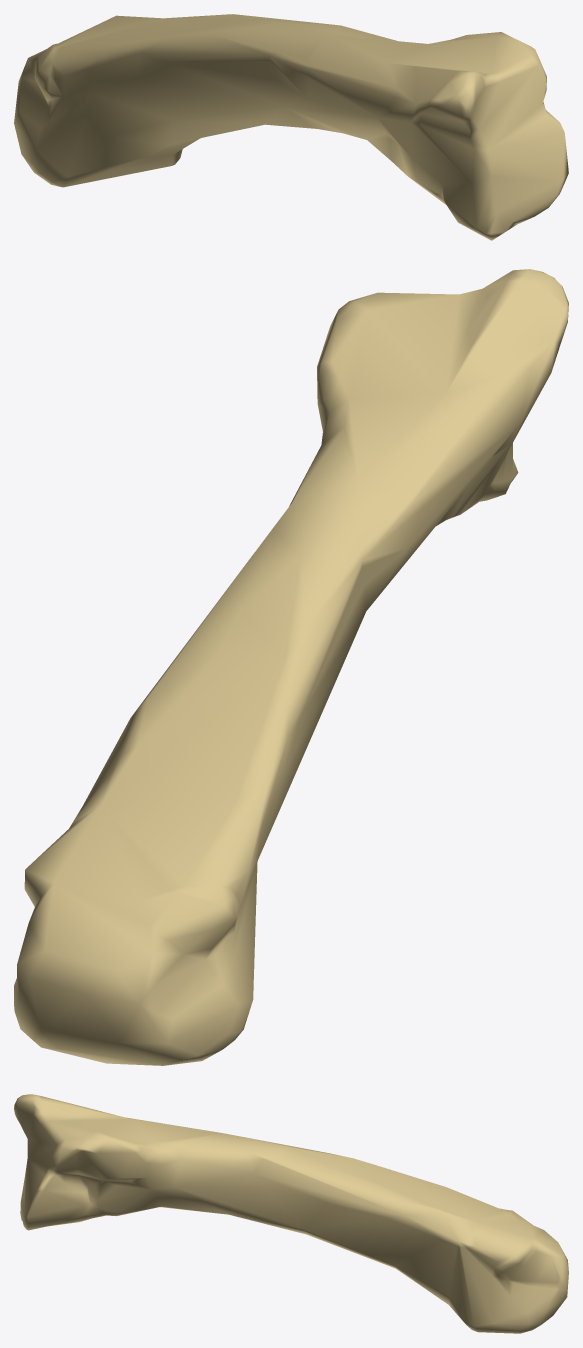
3 renders of one model, top to bottom at view 1: azimuth 30°, elevation 25°; view 2: azimuth 150°, elevation 25°; view 3: azimuth 270°, elevation 25°, orthographic. The views are drawn at different scales.
Parts seen in each view (by area): view 1: 右侧第三掌骨; view 2: 右侧第三掌骨; view 3: 右侧第三掌骨.
Boxes of the visible parts, bbox=[...] form: 右侧第三掌骨: bbox=[14, 14, 568, 240]; 右侧第三掌骨: bbox=[14, 269, 568, 1065]; 右侧第三掌骨: bbox=[14, 1094, 568, 1333].
Bounding box in the file's own units: 0.0306 × 0.0467 × 0.0983.
